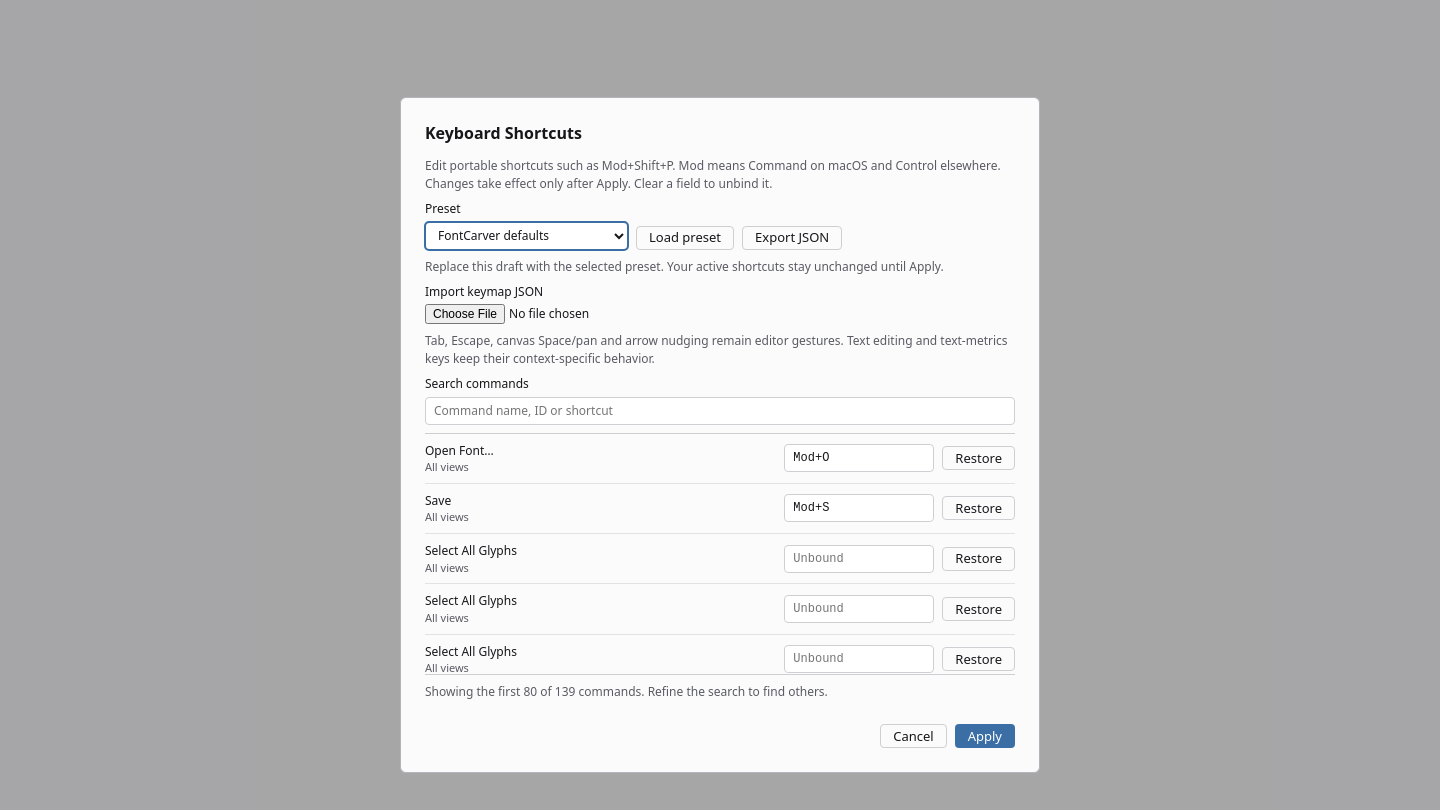
shows a conflicting row even when the search matches many actions
Replace the text in the field with id "binding-file" with "Mod+S" at [859, 458], box [784,444,934,472]
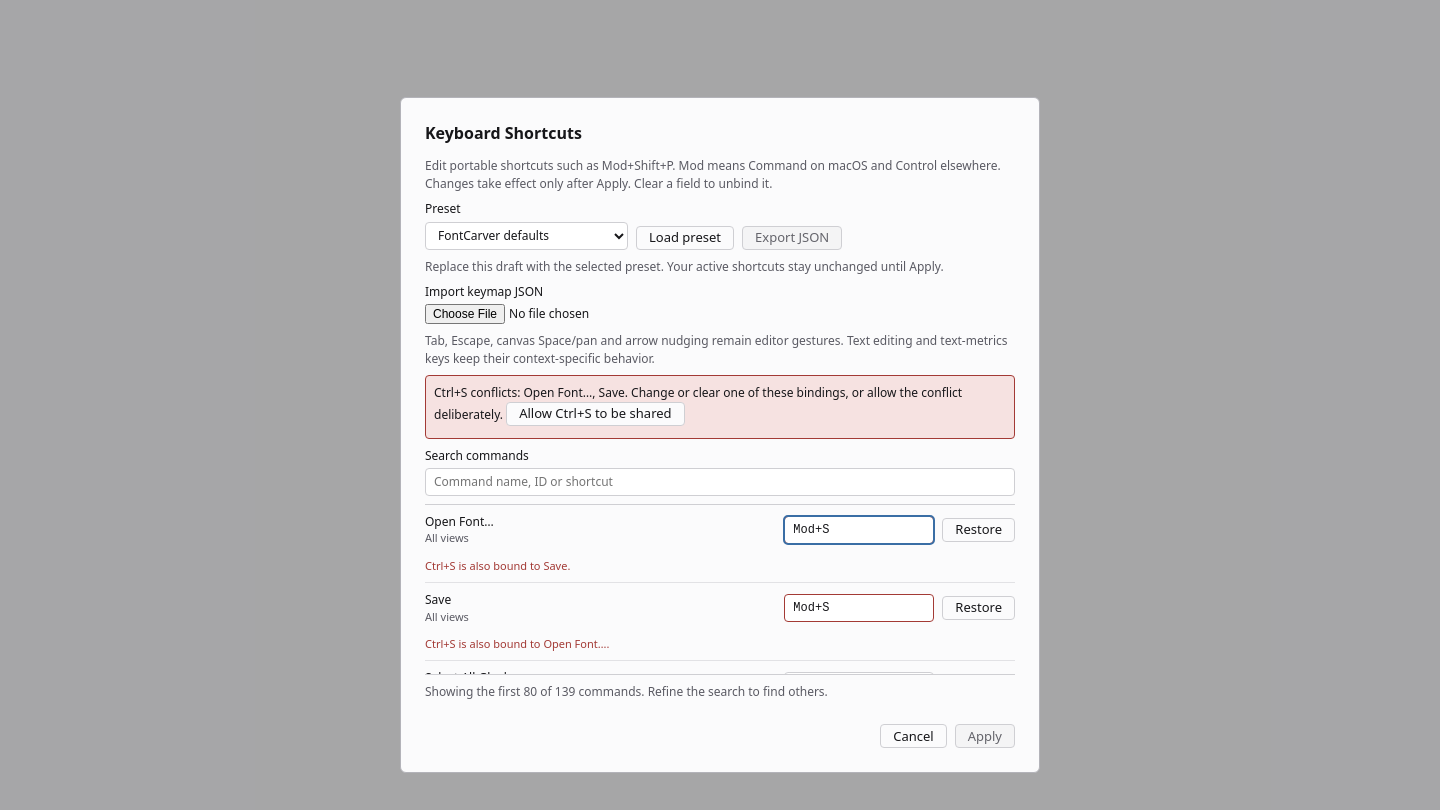
Check: the text "Ctrl+S is also bound to Save." is shown, box [425,558,570,573]
Check: the text "Ctrl+S is also bound to Open Font…." is shown, box [425,636,609,652]
